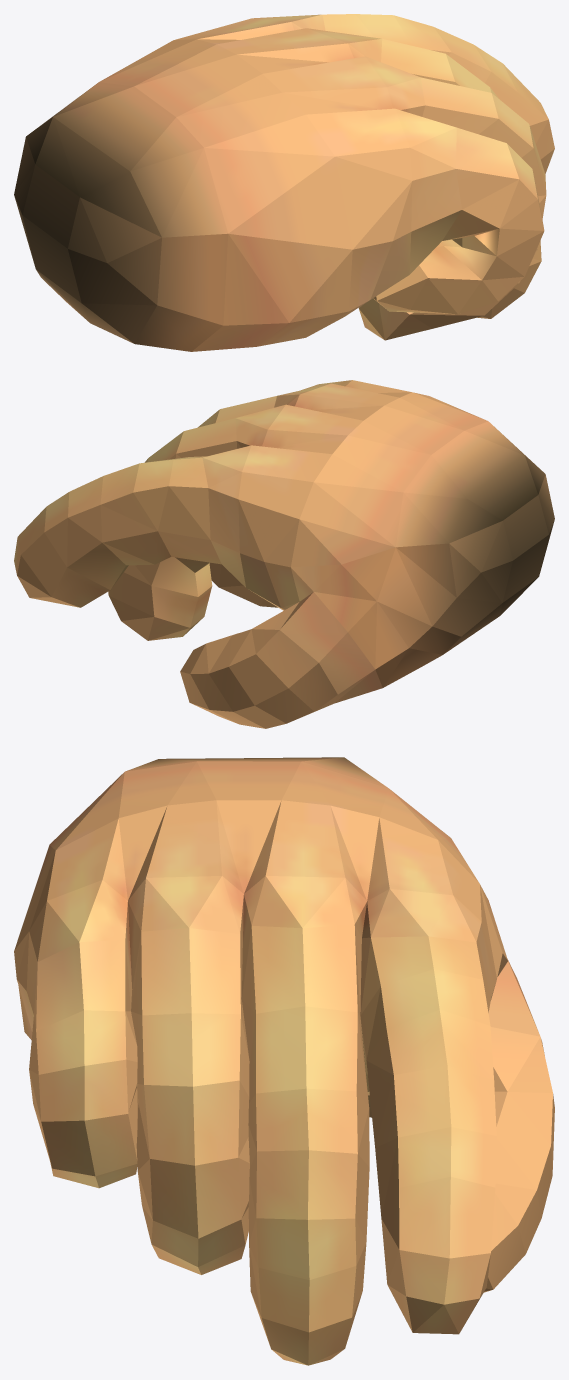
File: right hand 1.obj
The picture shows the model from 3 angles, top to bottom: view 1: azimuth 30°, elevation 25°; view 2: azimuth 150°, elevation 25°; view 3: azimuth 270°, elevation 25°; orthographic projection. The views are drawn at different scales.
Visible parts, largest first — view 1: n0b0; view 2: n0b0; view 3: n0b0.
Boxes of the visible parts, x1=… form: n0b0: x1=14, y1=14, x2=554, y2=351; n0b0: x1=14, y1=380, x2=554, y2=728; n0b0: x1=14, y1=757, x2=554, y2=1365.
Bounding box in the file's own units: 7.47 × 4.29 × 4.87.
Materials: 1 (1 with a texture image).
